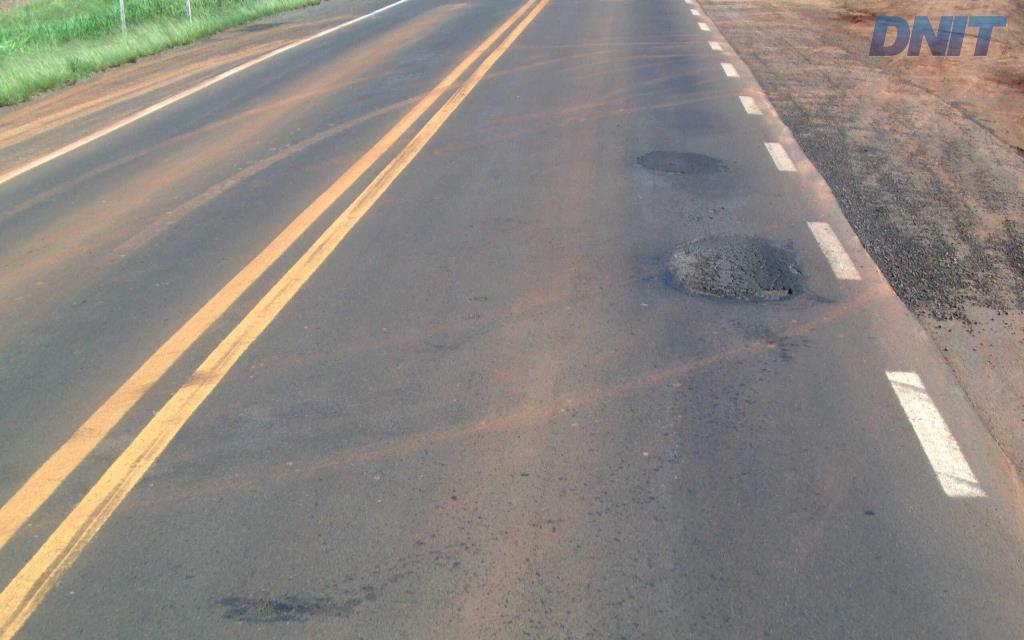crack: (758, 258, 800, 299)
pothole: (652, 242, 800, 311)
